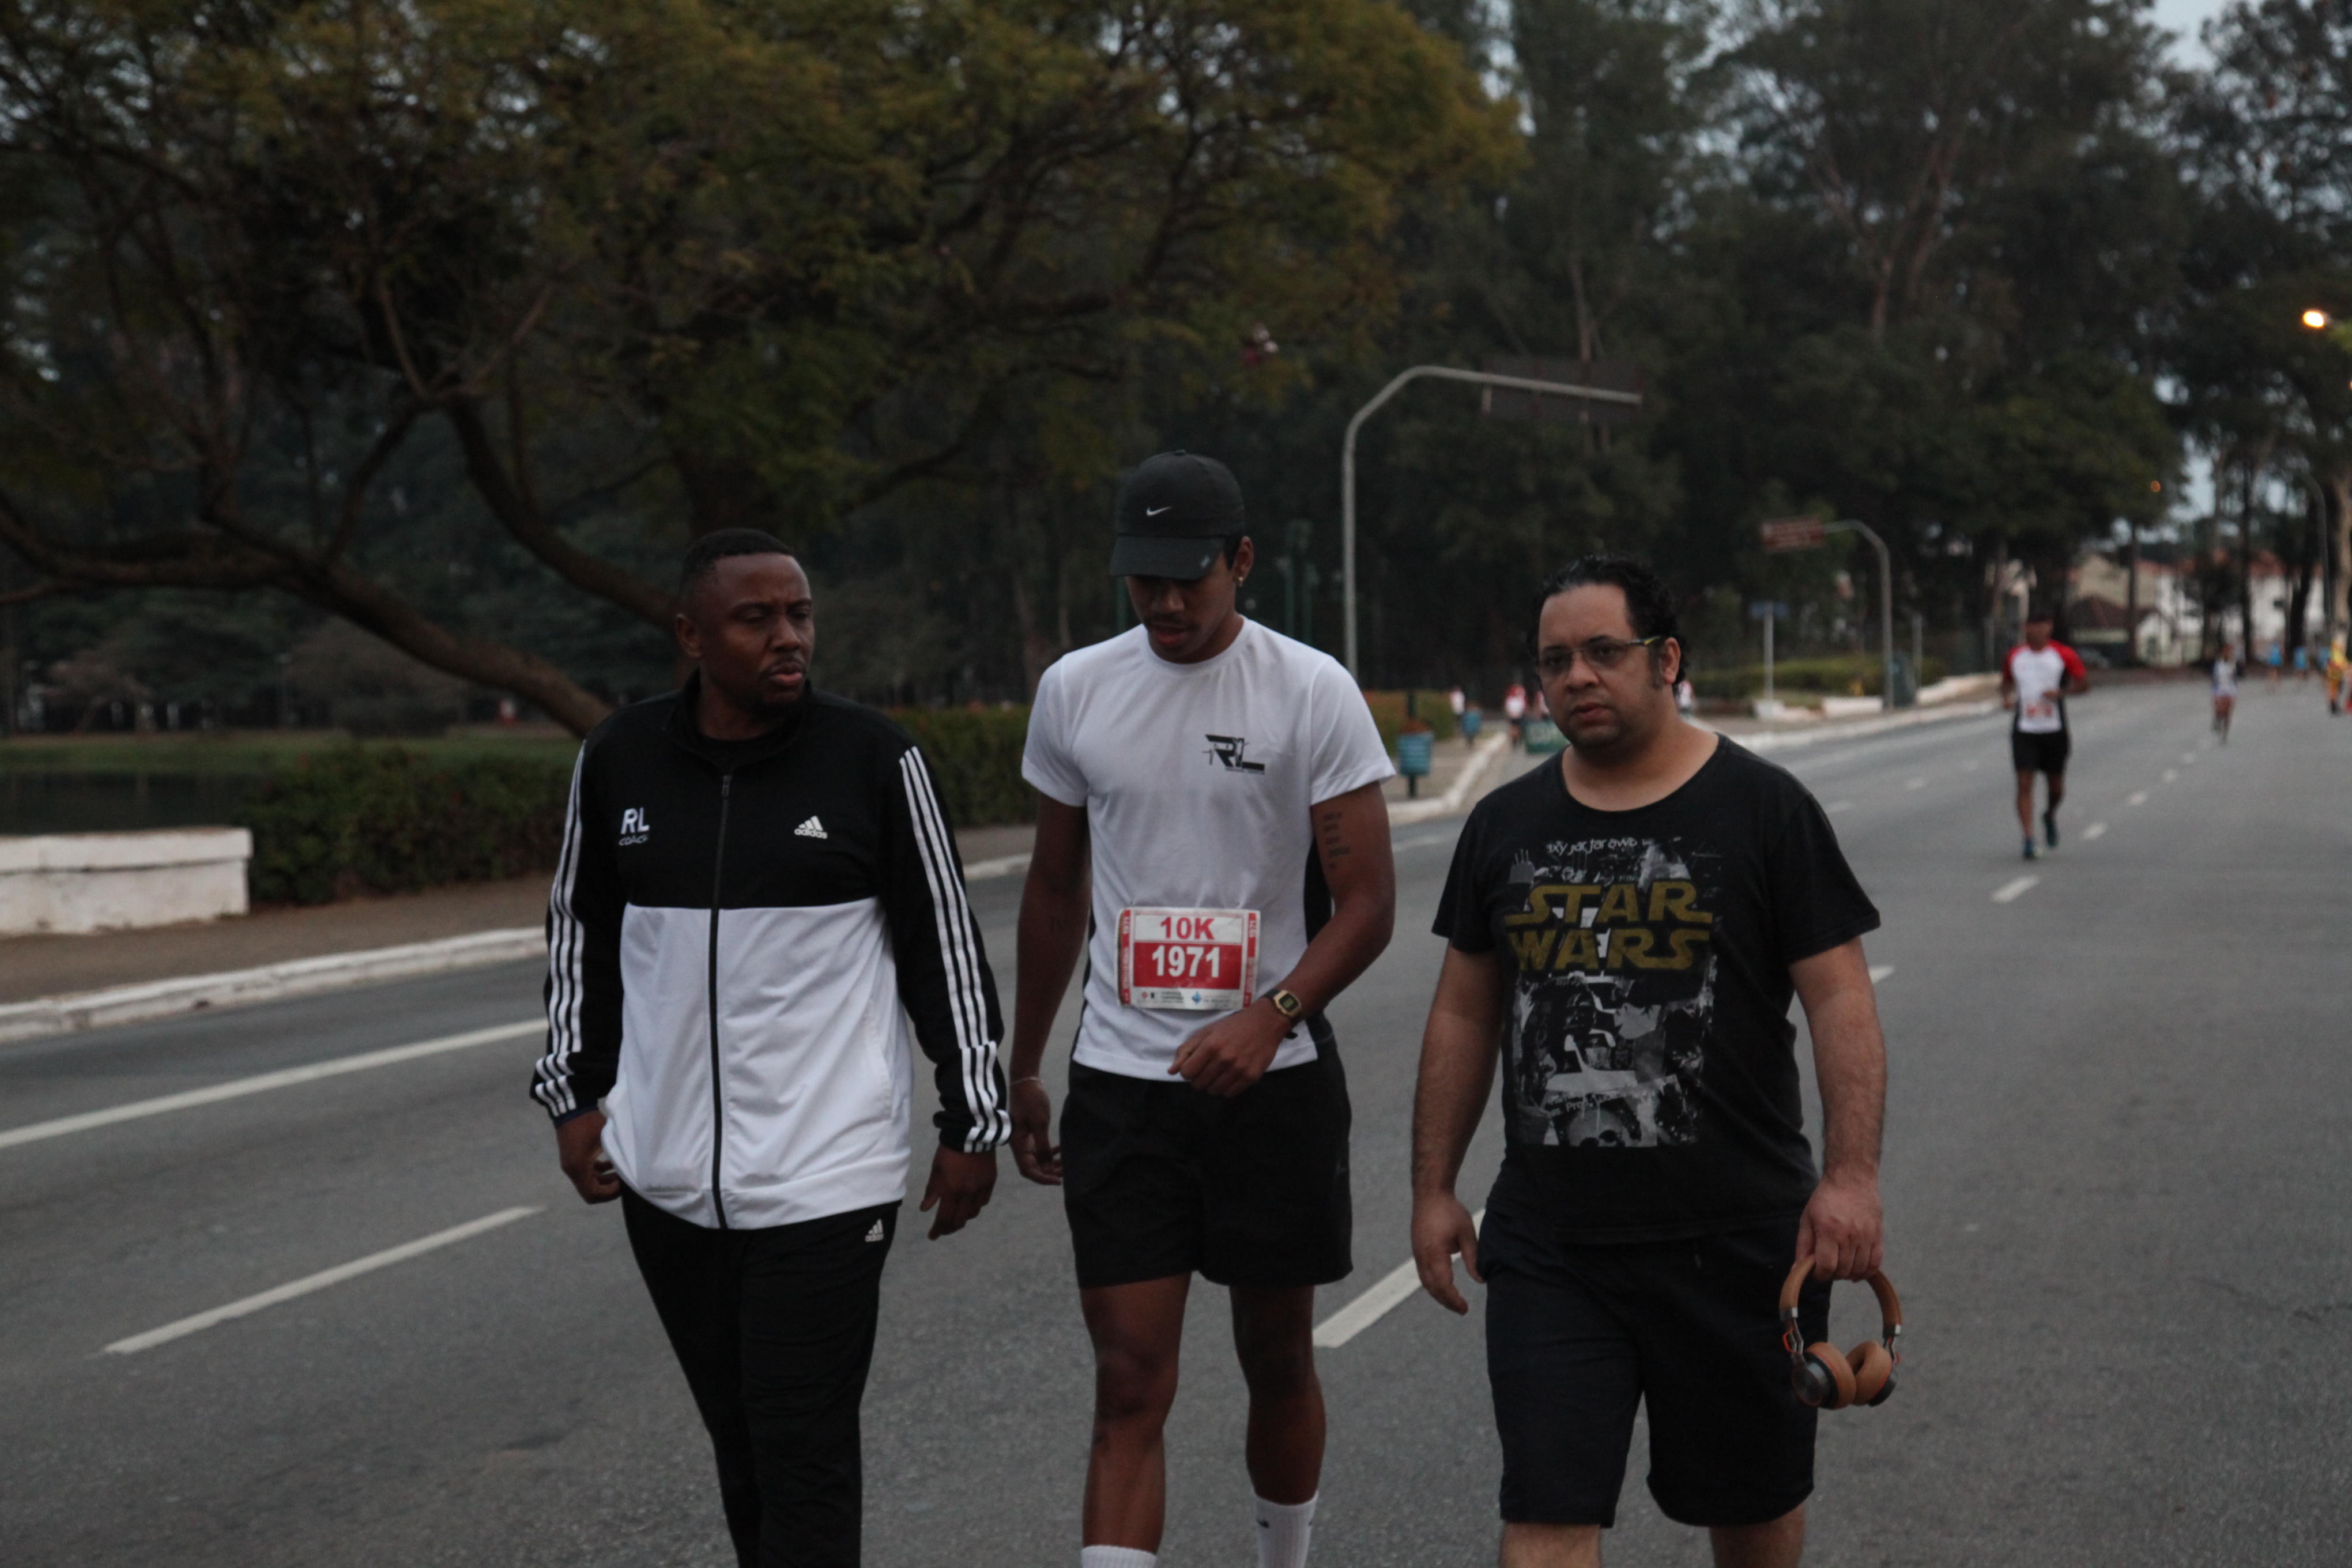bibtag: (1104, 894, 1272, 1038)
